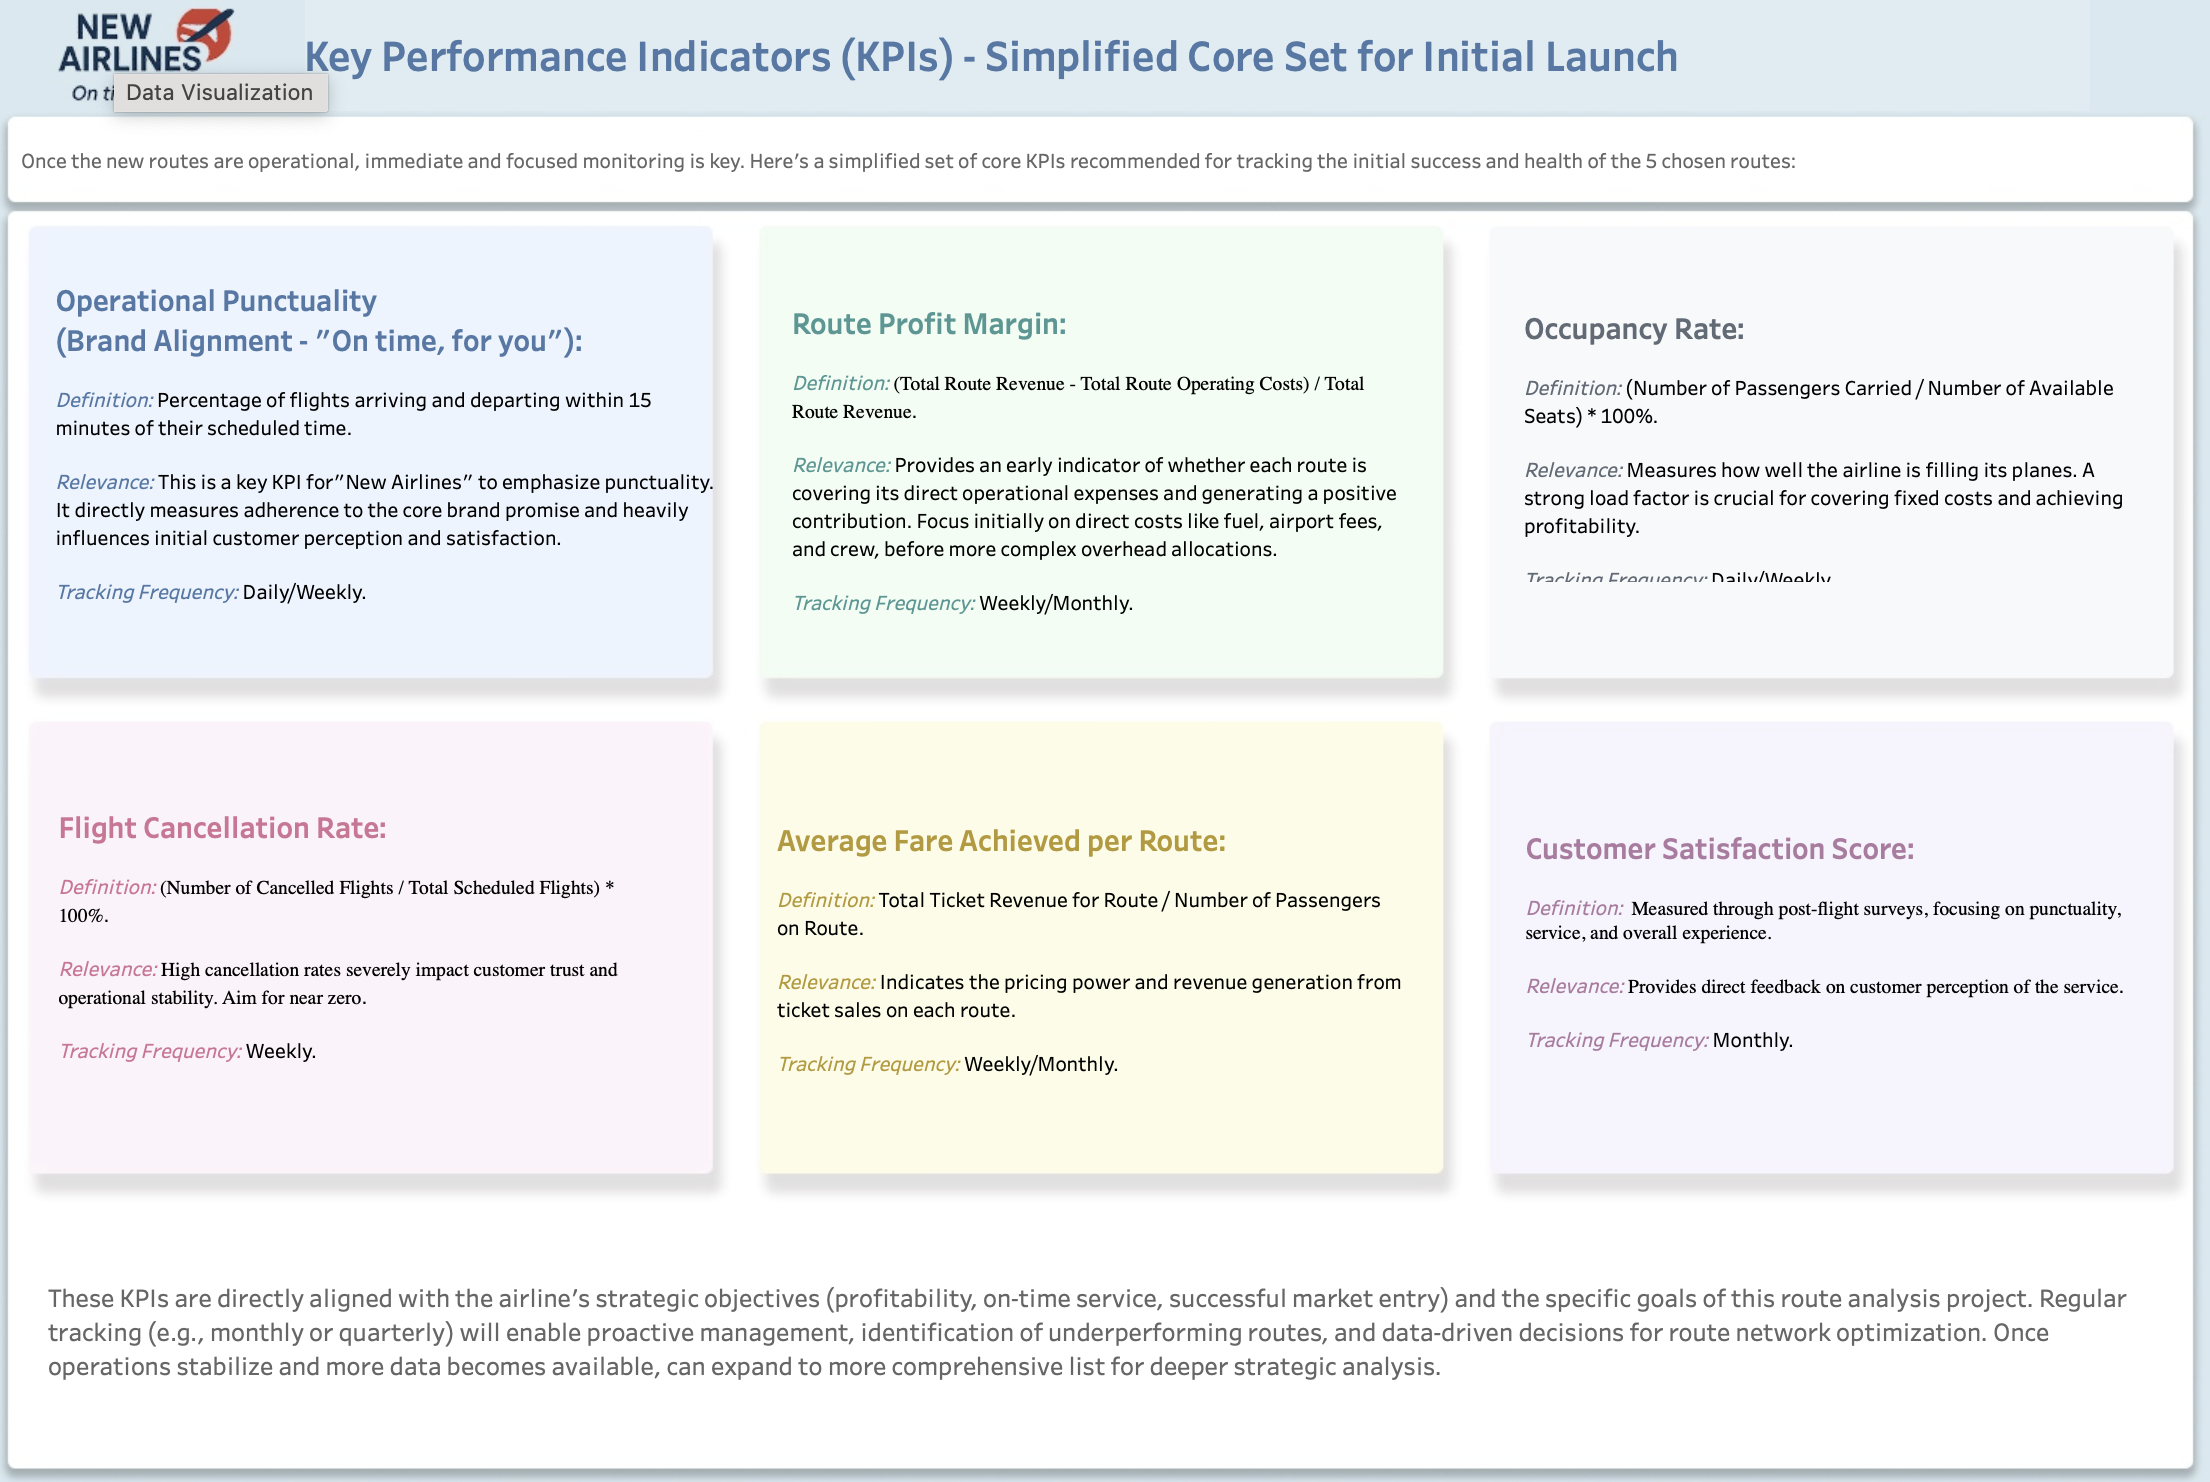

The page's visual inventory and layout, read from the dashboard file:
{"tool":"tableau","page":{"name":"KPIs - To Track","canvas":[1500,1000],"ordinal":2},"visuals":[{"type":"image","param":"Image/KPIs.jpg","box":[1,1,1501,998]},{"type":"text","box":[219,5,1190,76]},{"type":"text","box":[30,93,1435,41]},{"type":"text","box":[53,153,443,296]},{"type":"text","box":[544,190,412,245]},{"type":"text","box":[1032,212,421,183]},{"type":"text","box":[55,510,407,241]},{"type":"text","box":[534,529,419,220]},{"type":"text","box":[1033,535,420,197]},{"type":"text","box":[48,826,1414,138]}]}

Visuals, with their boxes in screenshot pixels (x1, y1, x2, y2), scaled from the page's 1500x1000 canvas onto the 2210x1482 screenshot:
image: Rect(1, 1, 2209, 1481)
text: Rect(323, 7, 2076, 120)
text: Rect(44, 138, 2158, 199)
text: Rect(78, 227, 731, 665)
text: Rect(801, 282, 1409, 645)
text: Rect(1520, 314, 2141, 585)
text: Rect(81, 756, 681, 1113)
text: Rect(787, 784, 1404, 1110)
text: Rect(1522, 793, 2141, 1085)
text: Rect(71, 1224, 2154, 1429)
